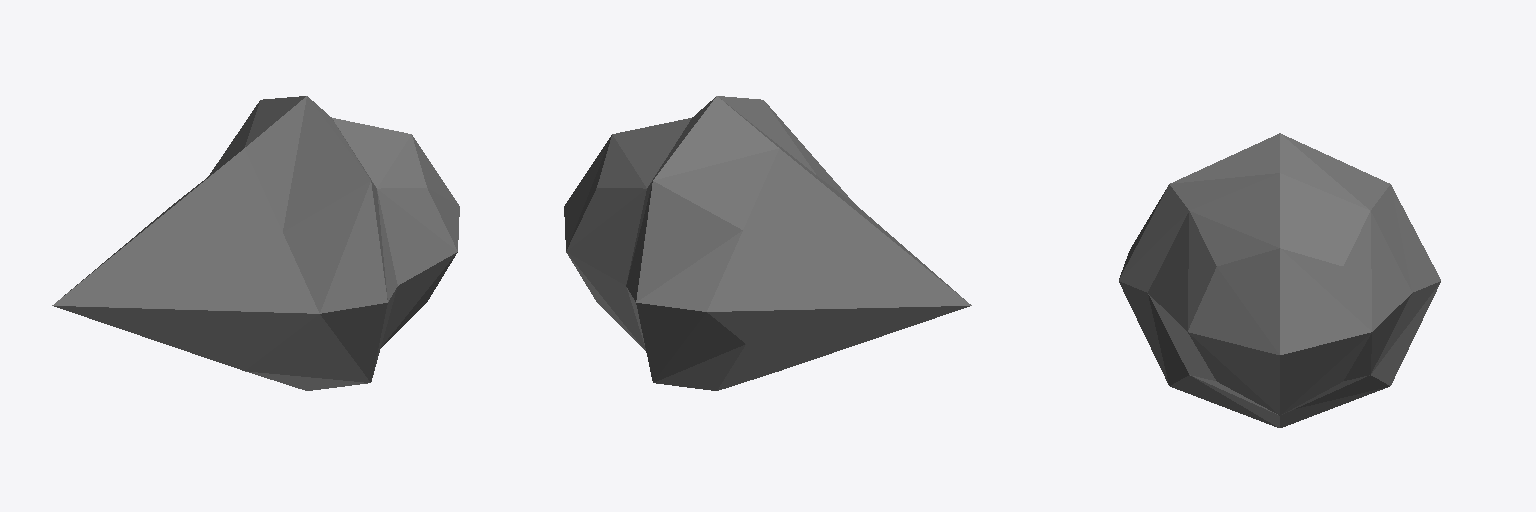
File: Projectile_W_0001.obj
The picture shows the model from 3 angles: view 1: azimuth 30°, elevation 25°; view 2: azimuth 150°, elevation 25°; view 3: azimuth 270°, elevation 25°; orthographic projection.
Parts seen in each view (by area): view 1: Wind_Ball; view 2: Wind_Ball; view 3: Wind_Ball.
Part boxes in pixels (x1,y1,x2,y2): Wind_Ball: (52,96,459,390); Wind_Ball: (564,96,971,390); Wind_Ball: (1119,133,1440,427).
Bounding box in the file's own units: 8.51 × 5.89 × 5.84.